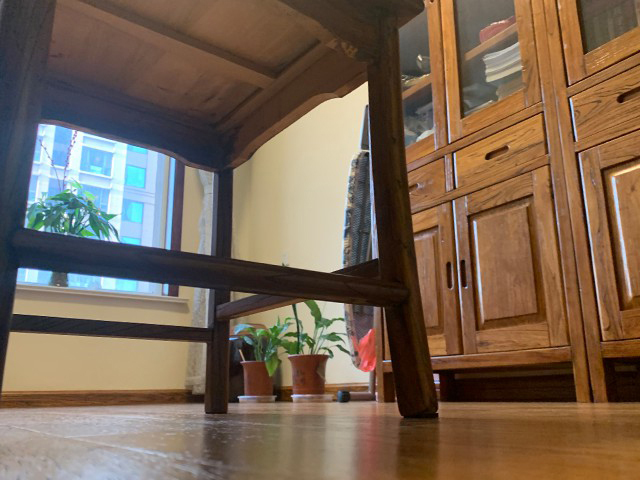cabinet: (421, 57, 640, 402)
curtain: (184, 166, 215, 394)
stool: (1, 1, 439, 419)
